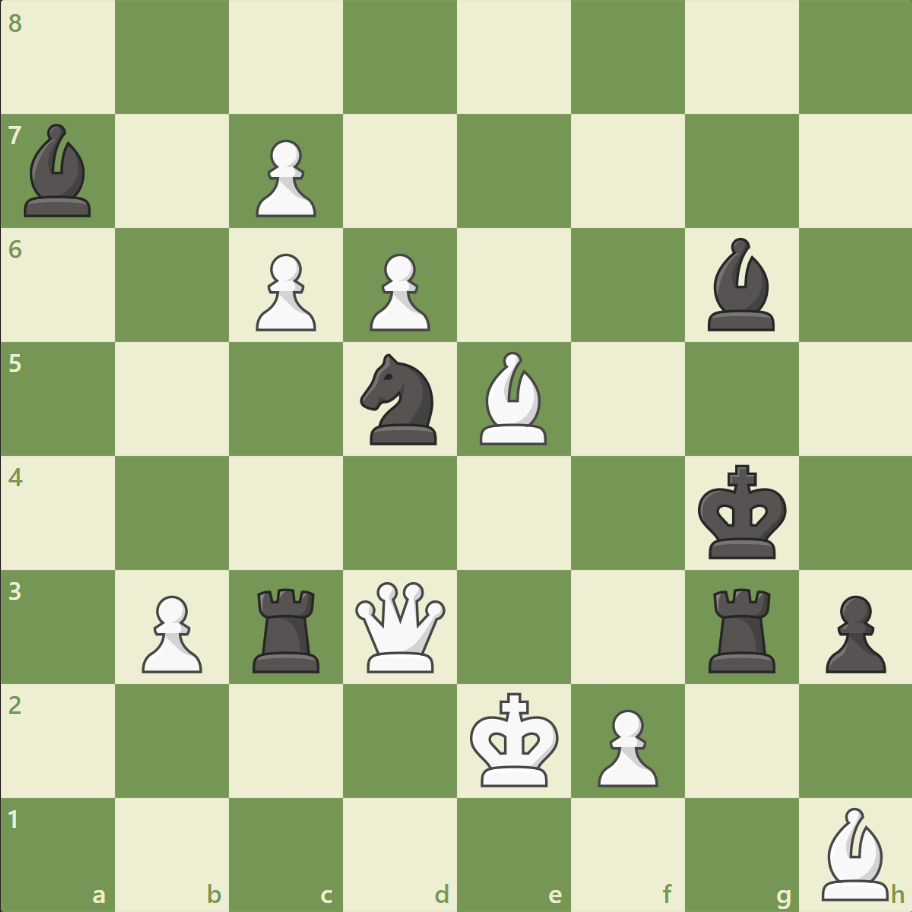B: (812, 801, 896, 904), (471, 347, 555, 449)
K: (465, 685, 565, 793)
P: (247, 132, 322, 223), (247, 246, 322, 337), (133, 586, 208, 677), (361, 246, 435, 337), (588, 700, 662, 791)
Q: (351, 576, 450, 676)
b: (698, 233, 782, 336), (17, 120, 101, 222)
k: (692, 458, 792, 566)
n: (351, 348, 449, 450)
p: (815, 586, 889, 677)
r: (246, 579, 329, 676), (700, 579, 783, 676)
